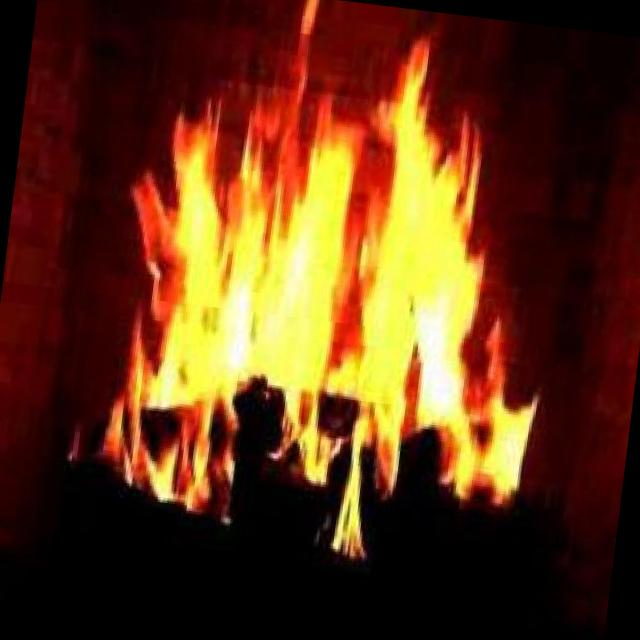Fire: (63, 0, 581, 584)
